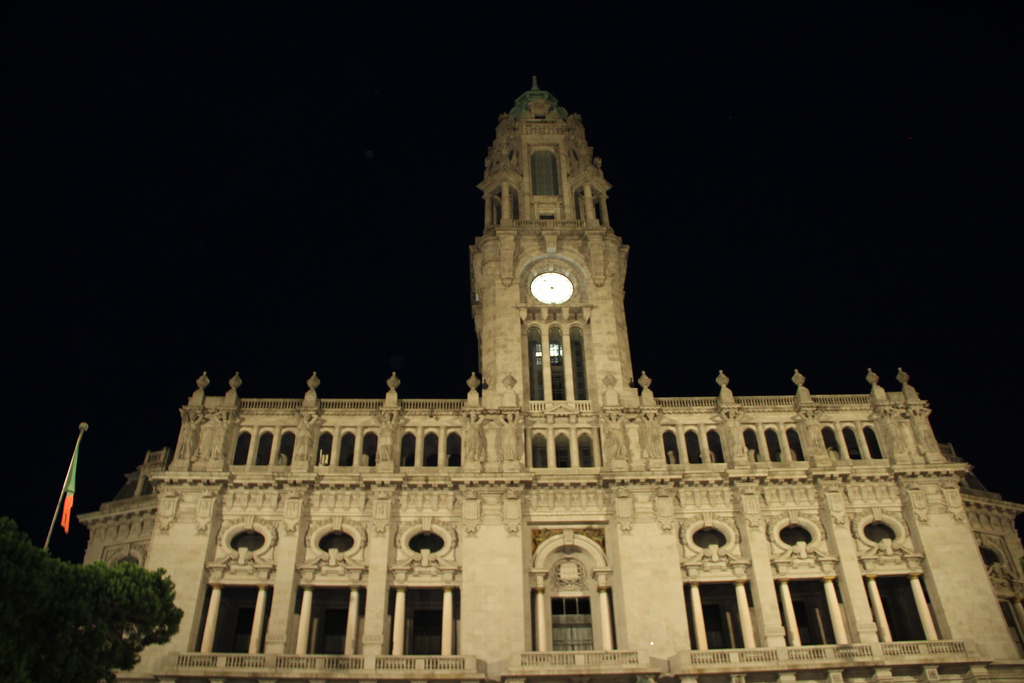camara: (72, 72, 1023, 682)
